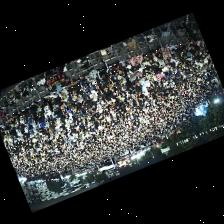person: (174, 34, 203, 56), (96, 55, 109, 79), (61, 91, 72, 112), (55, 83, 67, 100), (32, 100, 43, 116), (42, 98, 50, 119), (69, 88, 81, 102), (67, 81, 79, 95), (84, 69, 96, 83), (129, 53, 141, 67), (110, 62, 122, 75), (46, 92, 59, 104), (52, 104, 60, 122), (0, 128, 8, 145), (74, 103, 82, 120), (80, 99, 89, 114), (139, 79, 150, 91), (151, 46, 162, 58), (108, 71, 117, 85), (142, 52, 153, 63), (79, 76, 89, 88), (167, 42, 177, 54), (115, 73, 125, 85), (28, 105, 37, 118), (36, 116, 43, 132), (88, 86, 96, 100), (144, 64, 155, 74), (79, 83, 89, 94), (87, 98, 96, 110), (99, 80, 108, 91), (157, 59, 165, 71), (92, 77, 100, 89), (21, 109, 28, 122), (129, 76, 139, 85), (129, 65, 138, 74), (140, 60, 149, 69), (162, 52, 171, 61), (120, 59, 130, 67), (43, 118, 49, 131), (80, 92, 86, 105), (145, 73, 153, 82), (107, 98, 115, 107), (25, 117, 31, 129), (0, 120, 8, 129), (160, 44, 168, 53), (108, 82, 115, 92), (121, 66, 127, 77), (30, 118, 35, 131), (7, 117, 15, 125), (55, 65, 63, 73), (127, 70, 134, 79), (152, 55, 158, 65), (184, 38, 189, 49), (96, 102, 101, 112), (188, 39, 193, 49), (137, 67, 142, 76), (163, 59, 169, 66), (13, 121, 18, 128)
